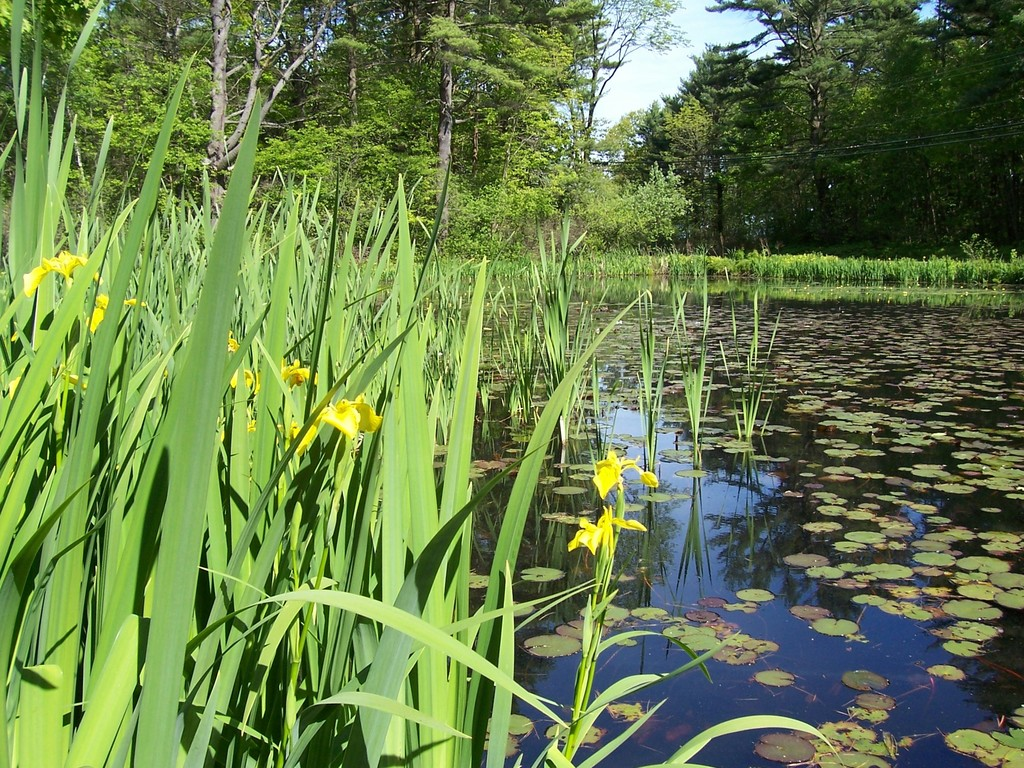Tree: (0, 0, 699, 260), (599, 0, 1023, 257)
